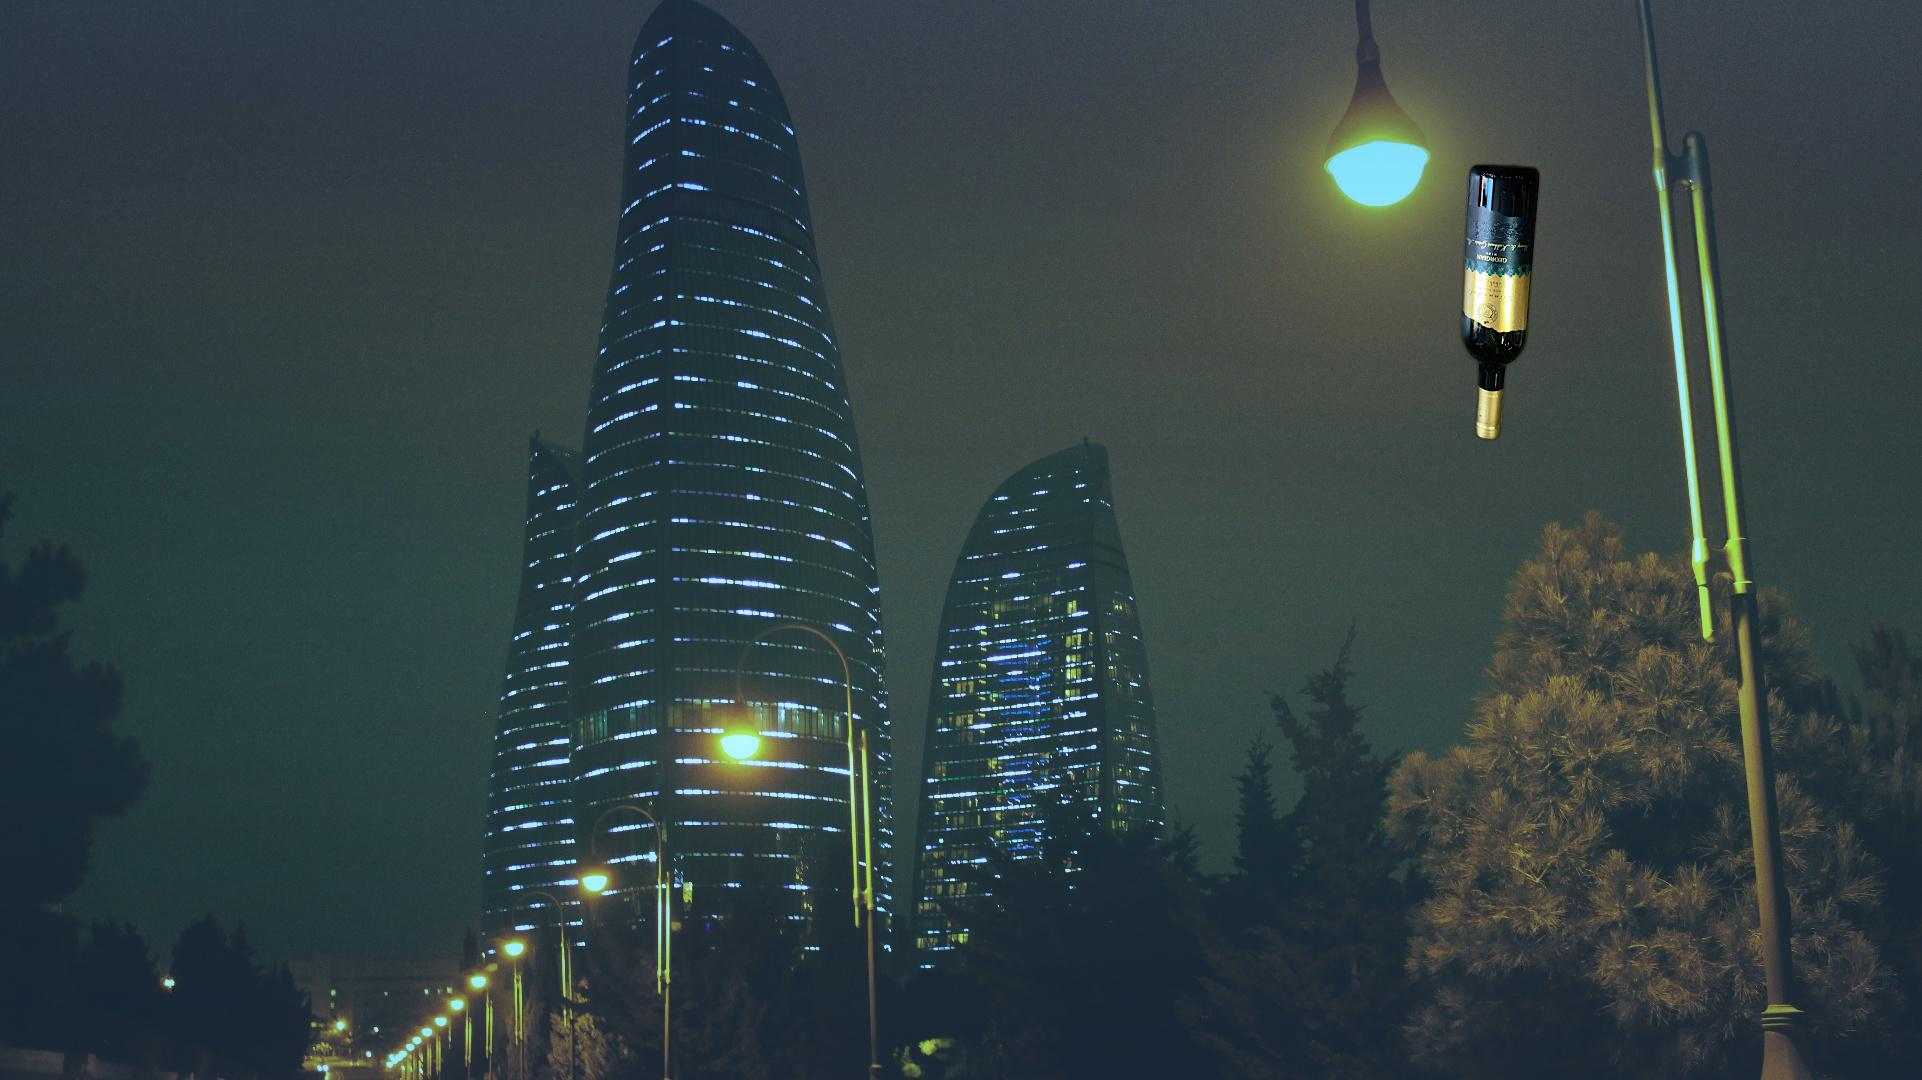glass: (1456, 151, 1544, 448)
